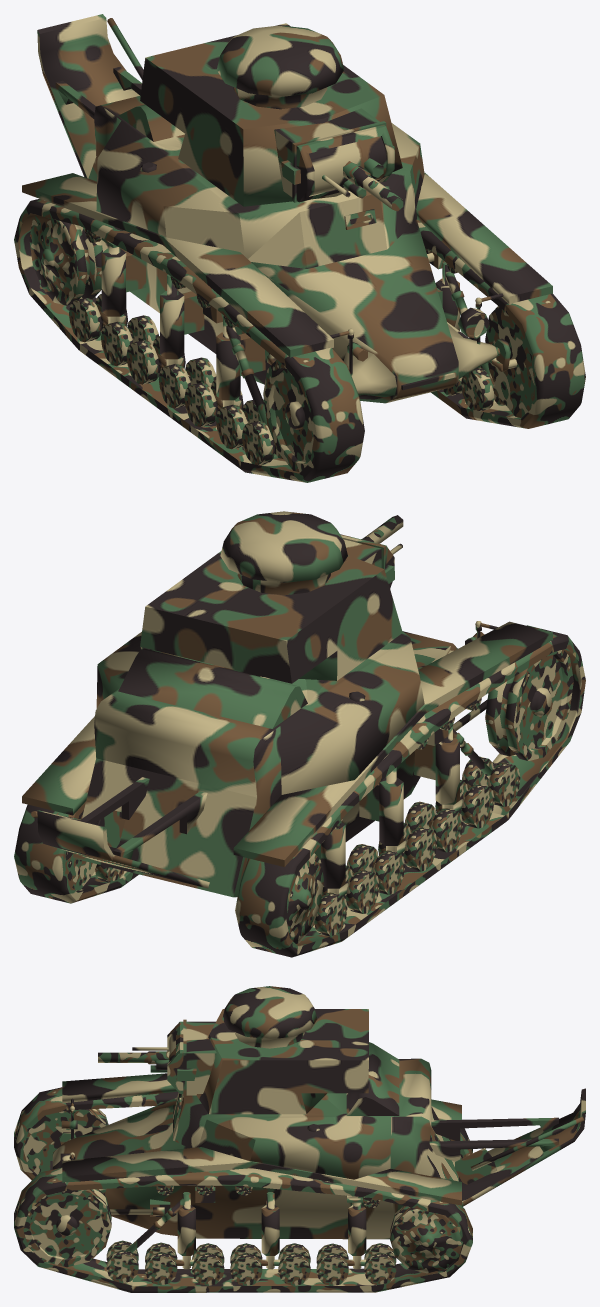
File: tank.dae
3 views of the same model, one above another, from view 1: azimuth 30°, elevation 25°; view 2: azimuth 150°, elevation 25°; view 3: azimuth 270°, elevation 25° (orthographic). The views are drawn at different scales.
Visible parts, largest first — view 1: Tower.001_UV.002_Tower.001_UV.002; view 2: Tower.001_UV.002_Tower.001_UV.002; view 3: Tower.001_UV.002_Tower.001_UV.002.
Boxes of the visible parts, x1,y1,x2,y2 form: Tower.001_UV.002_Tower.001_UV.002: (14, 14, 585, 482); Tower.001_UV.002_Tower.001_UV.002: (14, 511, 585, 957); Tower.001_UV.002_Tower.001_UV.002: (14, 986, 585, 1292).
Bounding box in the file's own units: 3.85 × 9.56 × 4.57.
